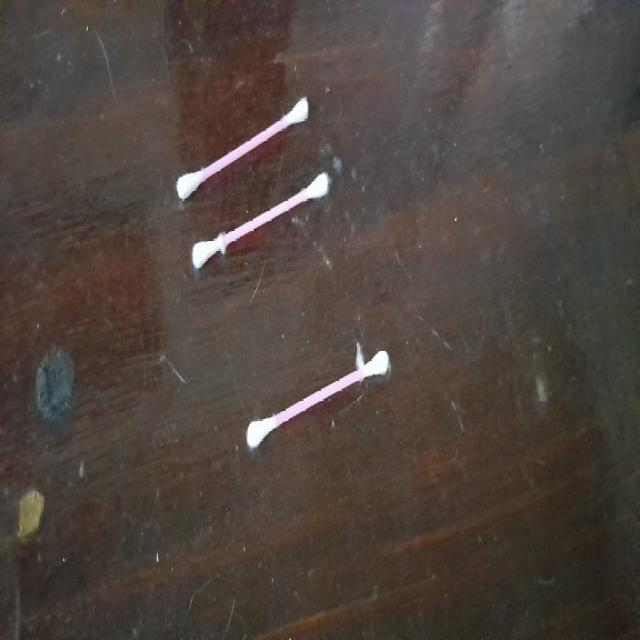Earbud - Non Recyclable: (173, 99, 342, 276), (245, 342, 392, 452)
